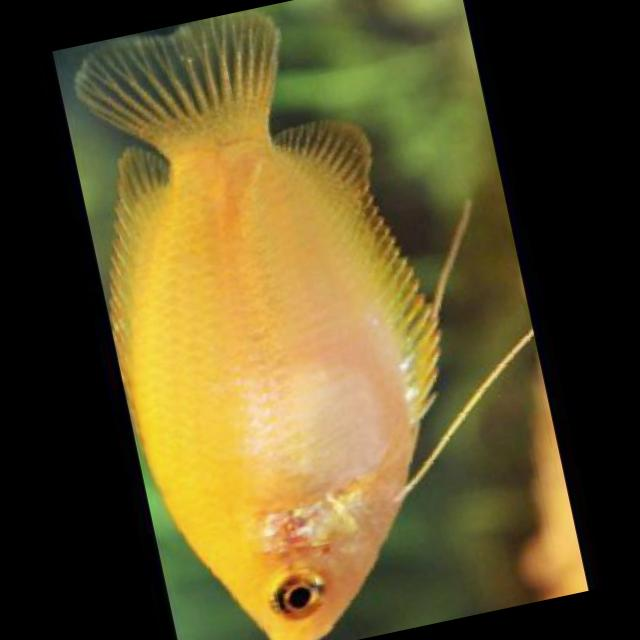Gourami: (49, 0, 498, 640)
